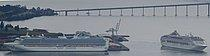Ship: (1, 31, 114, 55), (158, 29, 210, 55)
